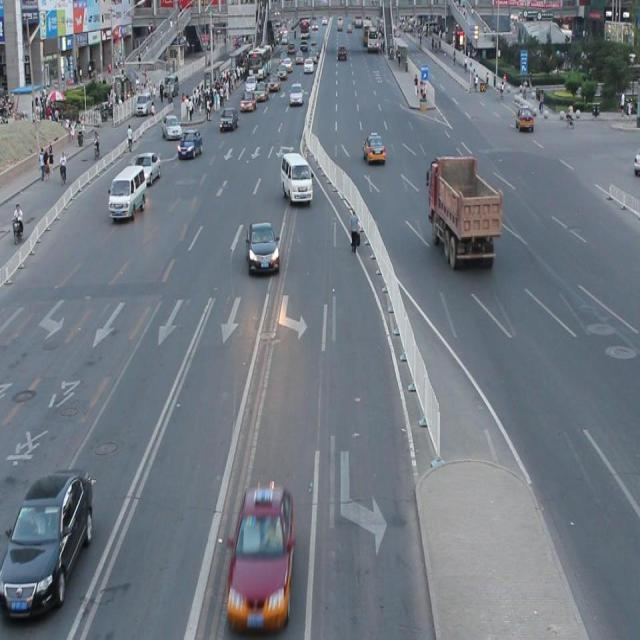bus: (426, 155, 501, 267)
car: (1, 466, 94, 618), (224, 484, 294, 629), (246, 221, 280, 277), (132, 151, 161, 186)
truck: (109, 163, 147, 220), (280, 151, 312, 203)
